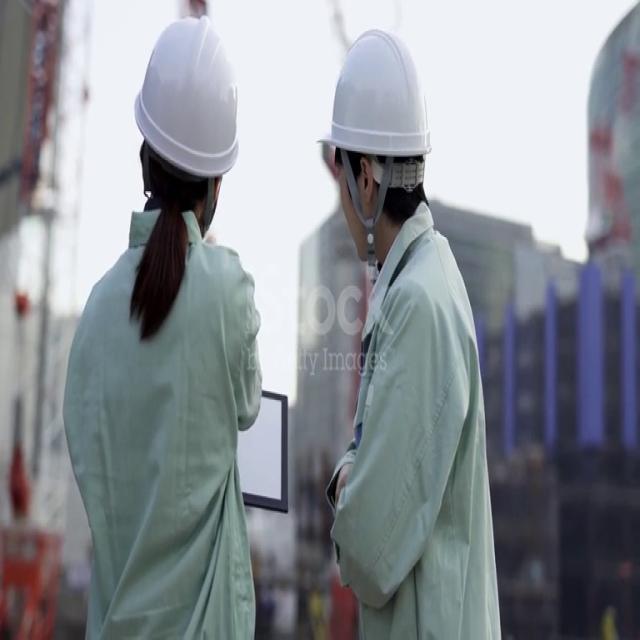capacete: (297, 21, 439, 186), (122, 5, 246, 182)
